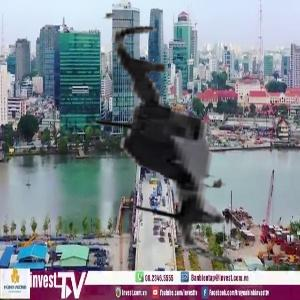drone: (45, 24, 288, 267)
